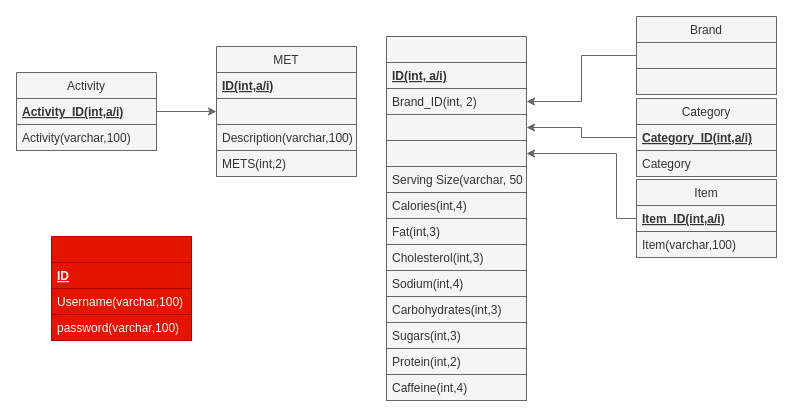
This 793x417 diagram has some shape labels left out. Each missing label, with the box of its shape:
Activity_ID(int,3): (216, 98, 356, 124)
Brand(varchar,100: (636, 68, 776, 94)
Brand_ID(int,a/i): (636, 42, 776, 68)
Category_ID(int, 3): (386, 114, 526, 140)
Item_ID(int,3 ): (386, 140, 526, 166)
Menu: (386, 36, 526, 400)
Users: (50, 236, 192, 340)
